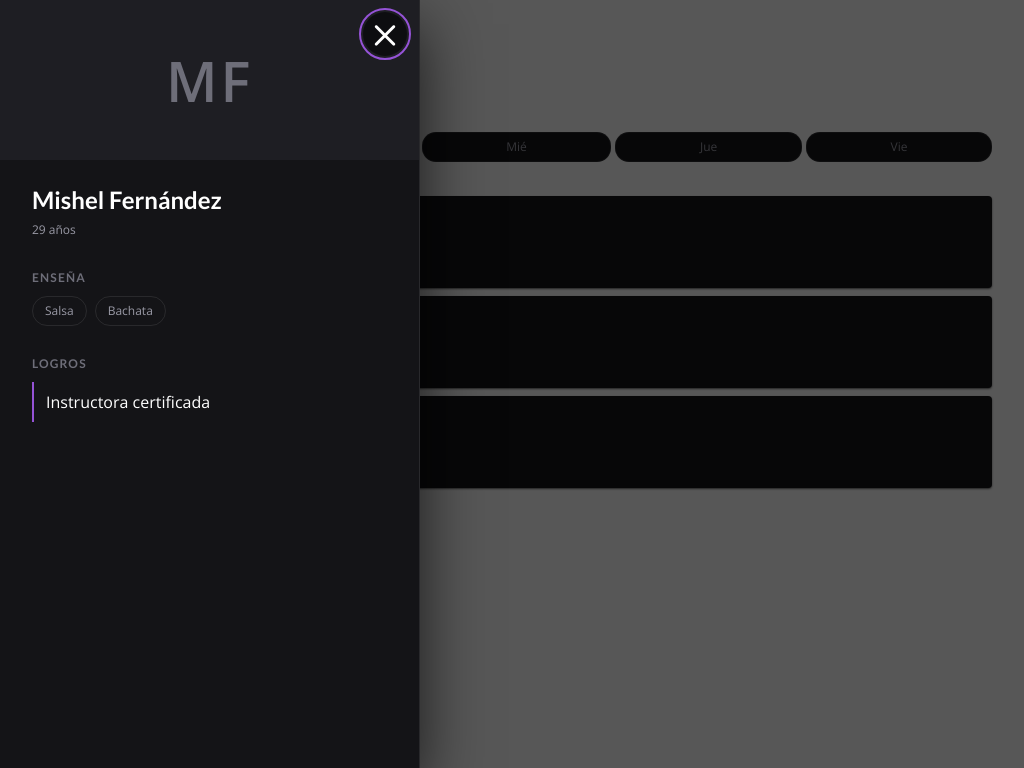
Test case: Schedules opening a teacher over the schedule › closes a direct link in place, without going back past the first entry
Click the button named "Cerrar".
click(385, 34)  # box [363,12,407,56]
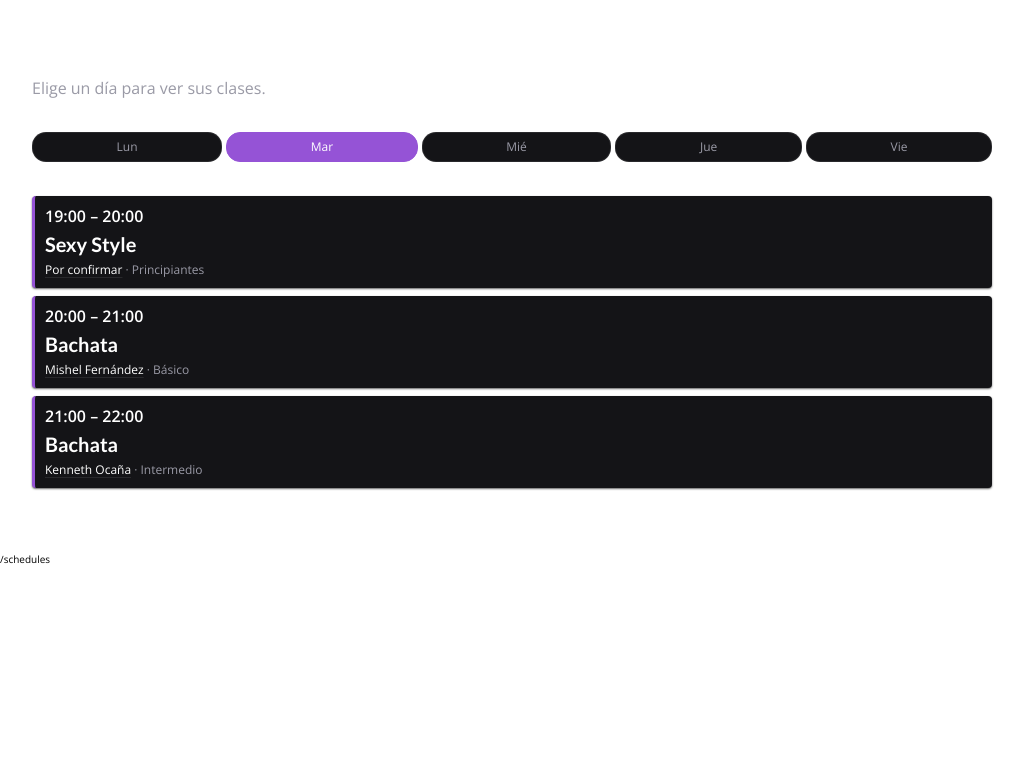
Check: the dialog is gone
Check: the text with test id "location" reads "/schedules", box [0,552,50,566]
